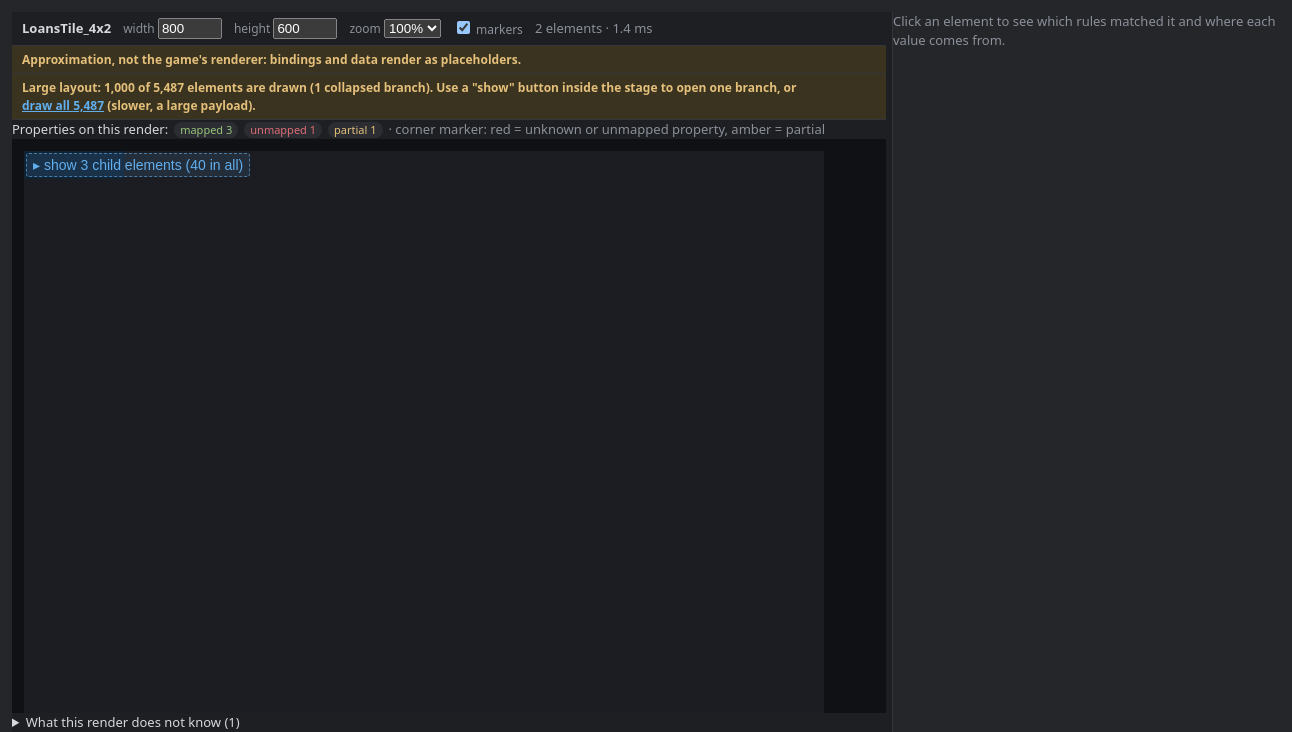
Scenario: large layouts (M8) › draws every node only when asked, and goes back to the capped view
Click the button "draw all 5,487".
click(63, 106)  # box [22,97,104,114]
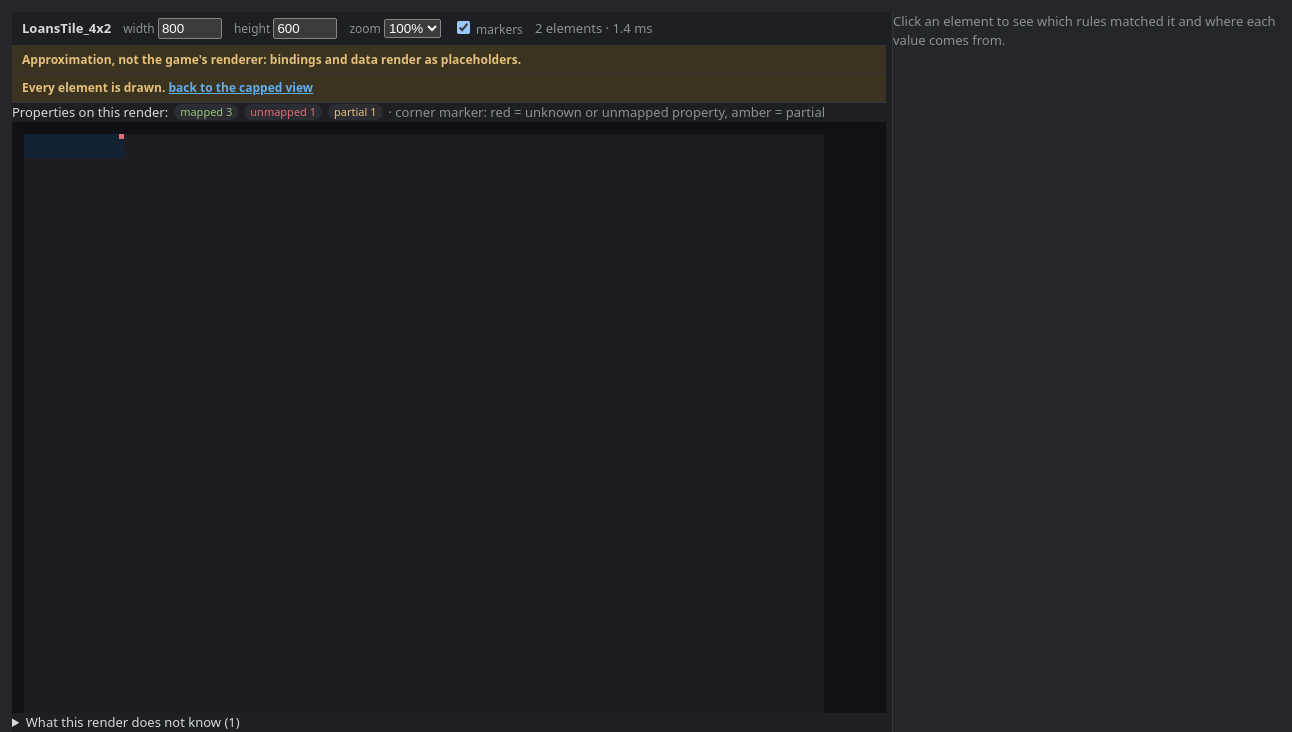
Click the button "back to the capped view".
click(241, 88)  # box [168,79,313,97]
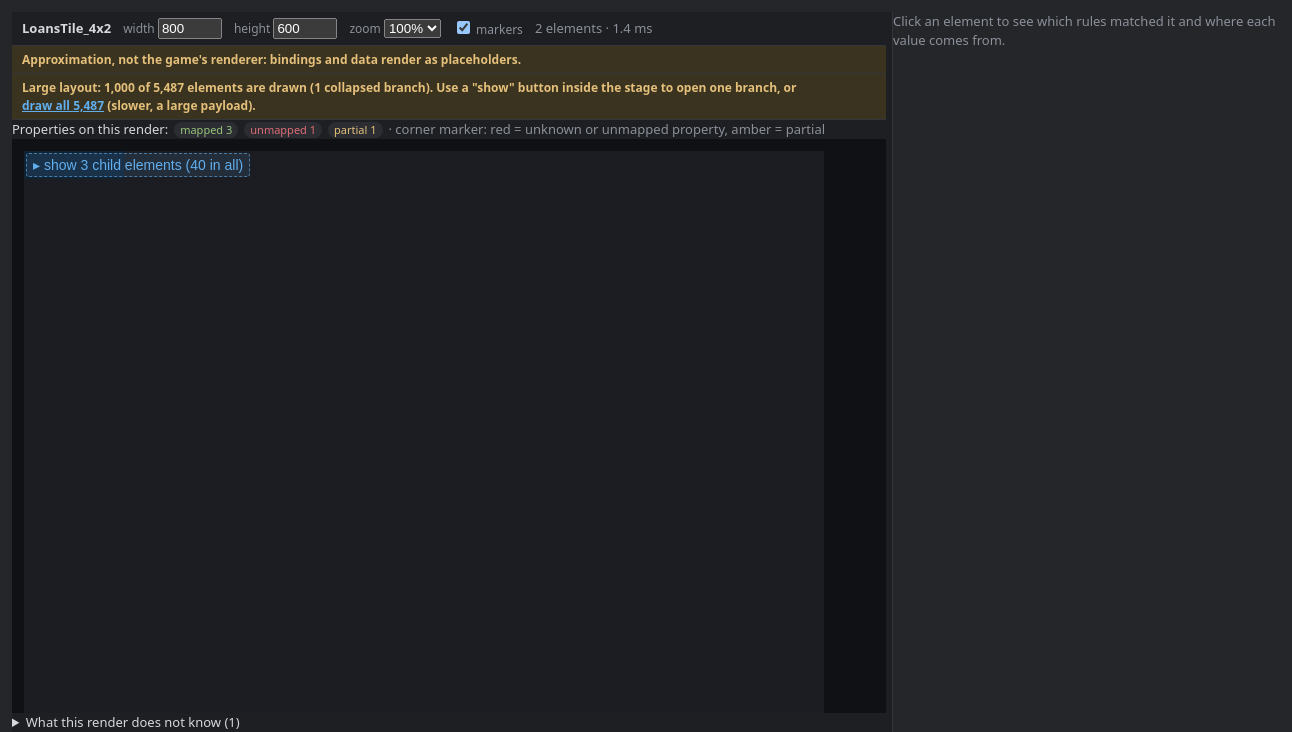
Expected: the message with test id "truncated" is shown, [12,74,886,120]
